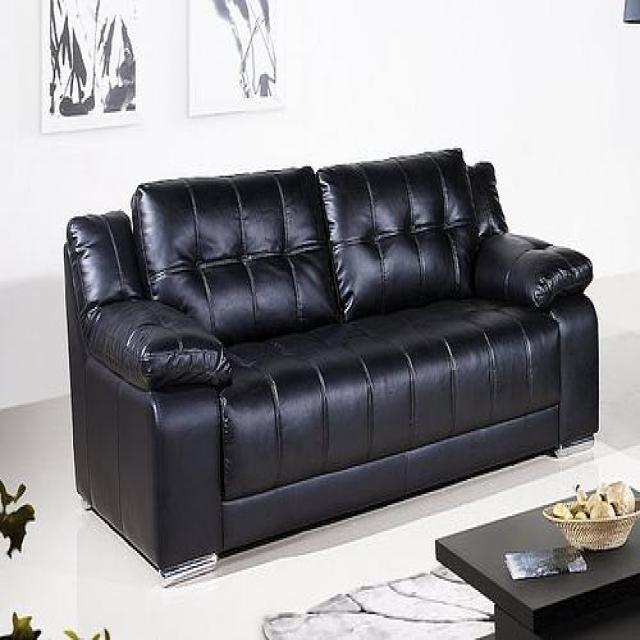sofa: (64, 146, 600, 588)
